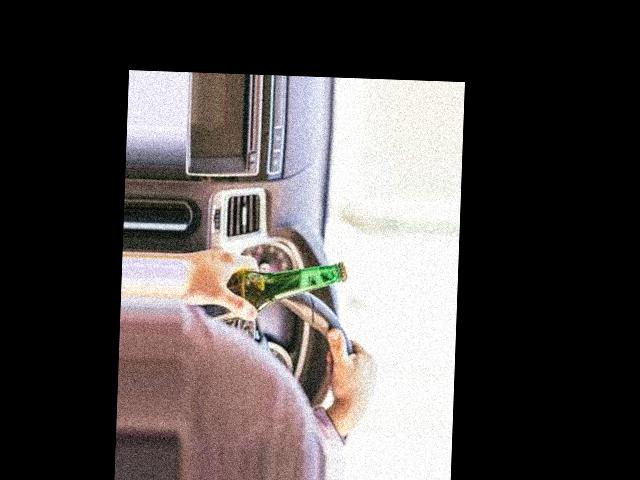beer: (195, 255, 348, 326)
